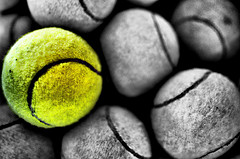tennis ball: (1, 27, 106, 127)
